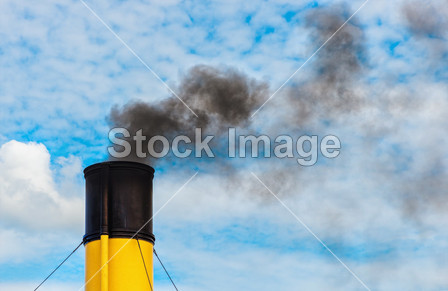dust: (91, 55, 264, 175)
